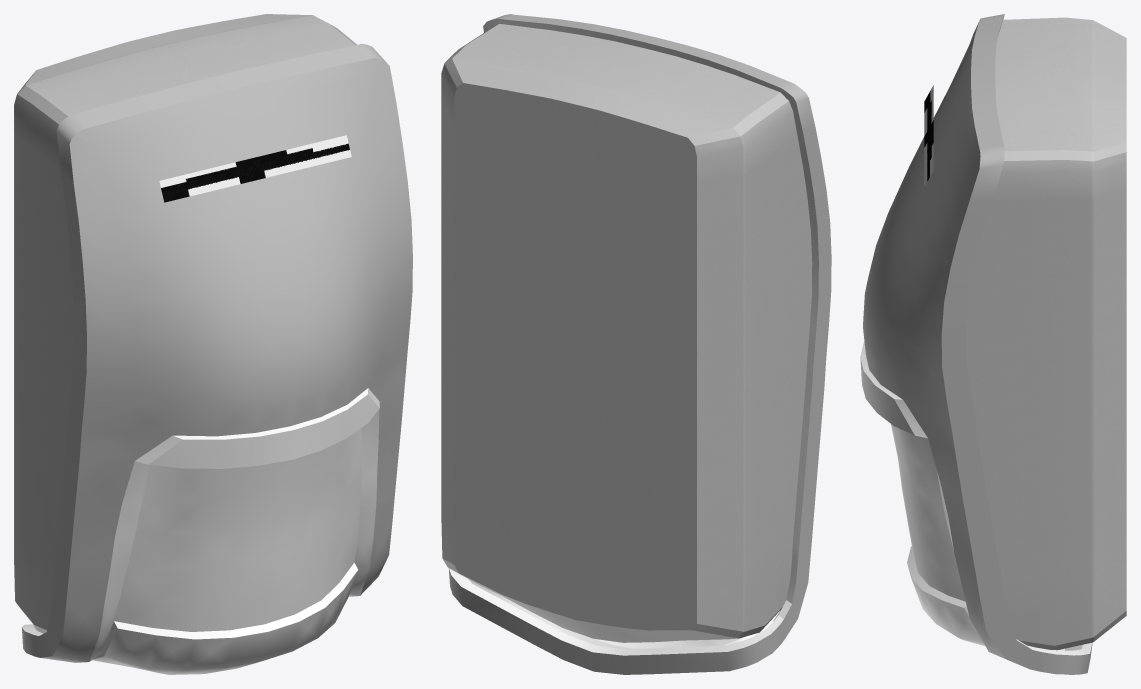
3 renders of one model, left to right at view 1: azimuth 30°, elevation 25°; view 2: azimuth 150°, elevation 25°; view 3: azimuth 270°, elevation 25°, orthographic. The views are drawn at different scales.
Visible parts, largest first — view 1: pPlane1_TA_Twinteck (×2), TA_Twinteck_pPlane2, image_0; view 2: TA_Twinteck_pPlane2, pPlane1_TA_Twinteck (×3); view 3: TA_Twinteck_pPlane2, pPlane1_TA_Twinteck (×3), image_0.
Part boxes in pixels (x1=…): pPlane1_TA_Twinteck (×2): x1=21, y1=43, x2=412, y2=674; TA_Twinteck_pPlane2: x1=14, y1=14, x2=357, y2=633; image_0: x1=159, y1=135, x2=351, y2=202; TA_Twinteck_pPlane2: x1=441, y1=24, x2=812, y2=642; pPlane1_TA_Twinteck (×3): x1=448, y1=14, x2=831, y2=674; TA_Twinteck_pPlane2: x1=966, y1=17, x2=1126, y2=650; pPlane1_TA_Twinteck (×3): x1=860, y1=14, x2=1092, y2=674; image_0: x1=924, y1=85, x2=933, y2=186.
Bounding box in the file's own units: 2.67 × 2.01 × 4.73.
Materials: 4 (1 with a texture image).
